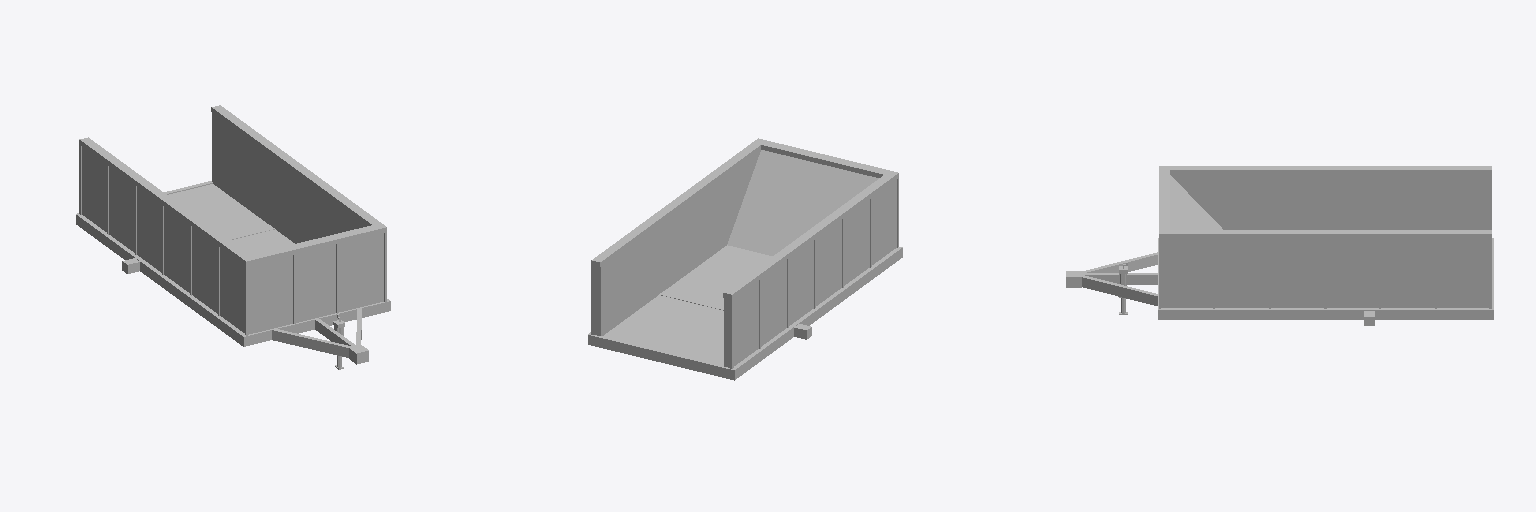
Rendered from manurespreader.obj.
3 renders of one model, left to right at view 1: azimuth 30°, elevation 25°; view 2: azimuth 150°, elevation 25°; view 3: azimuth 270°, elevation 25°, orthographic.
Visible parts, largest first — view 1: Cube.003_Cube.008, Cube.012_Cube.015, Cube.001_Cube.003, Cube.002_Cube.007, Cube.017_Cube.002, Cube.009; view 2: Cube.003_Cube.008, Cube.002_Cube.007, Cube.012_Cube.015, Cube.001_Cube.003, Cube.001; view 3: Cube.003_Cube.008, Cube.012_Cube.015, Cube.001_Cube.003, Cube.016_Cube.000, Cube.017_Cube.002, Cube.007_Cube.057.
Part boxes in pixels (left/top/right/bottom): Cube.003_Cube.008: left=82, top=113, right=383, bottom=333; Cube.012_Cube.015: left=79, top=105, right=386, bottom=265; Cube.001_Cube.003: left=76, top=181, right=390, bottom=346; Cube.002_Cube.007: left=168, top=184, right=294, bottom=254; Cube.017_Cube.002: left=270, top=328, right=351, bottom=357; Cube.009: left=190, top=226, right=386, bottom=335; Cube.003_Cube.008: left=594, top=150, right=896, bottom=367; Cube.002_Cube.007: left=604, top=245, right=772, bottom=364; Cube.012_Cube.015: left=591, top=138, right=898, bottom=299; Cube.001_Cube.003: left=588, top=247, right=902, bottom=380; Cube.001: left=659, top=291, right=811, bottom=339; Cube.003_Cube.008: left=1161, top=175, right=1490, bottom=307; Cube.012_Cube.015: left=1159, top=166, right=1491, bottom=238; Cube.001_Cube.003: left=1158, top=238, right=1493, bottom=319; Cube.016_Cube.000: left=1082, top=275, right=1158, bottom=305; Cube.017_Cube.002: left=1082, top=252, right=1158, bottom=272; Cube.007_Cube.057: left=1082, top=273, right=1157, bottom=284.
Bounding box in the file's own units: 3.21 × 1.99 × 6.88.